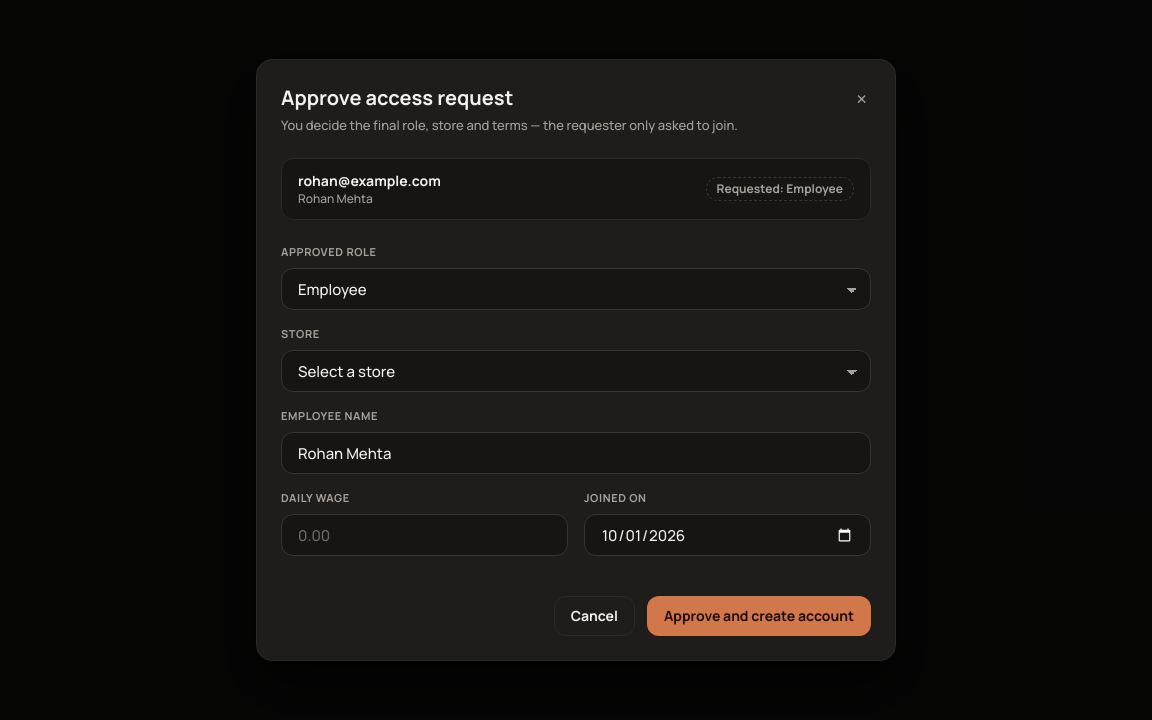
Test: access request approval form › surfaces an already-processed conflict instead of failing silently
Select "Koramangala" in the dropdown labelled "Store": [576, 371] box [281, 350, 871, 392]
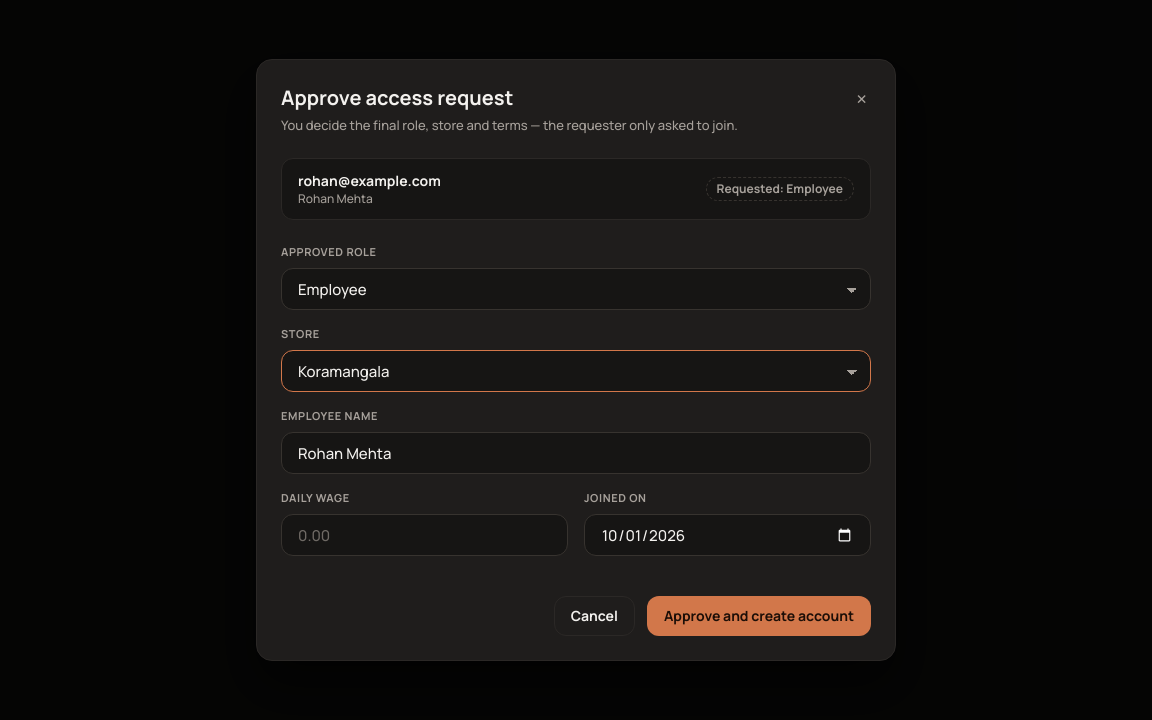
In the number field labelled "Daily wage": [424, 535] box [281, 514, 568, 556], type "650"
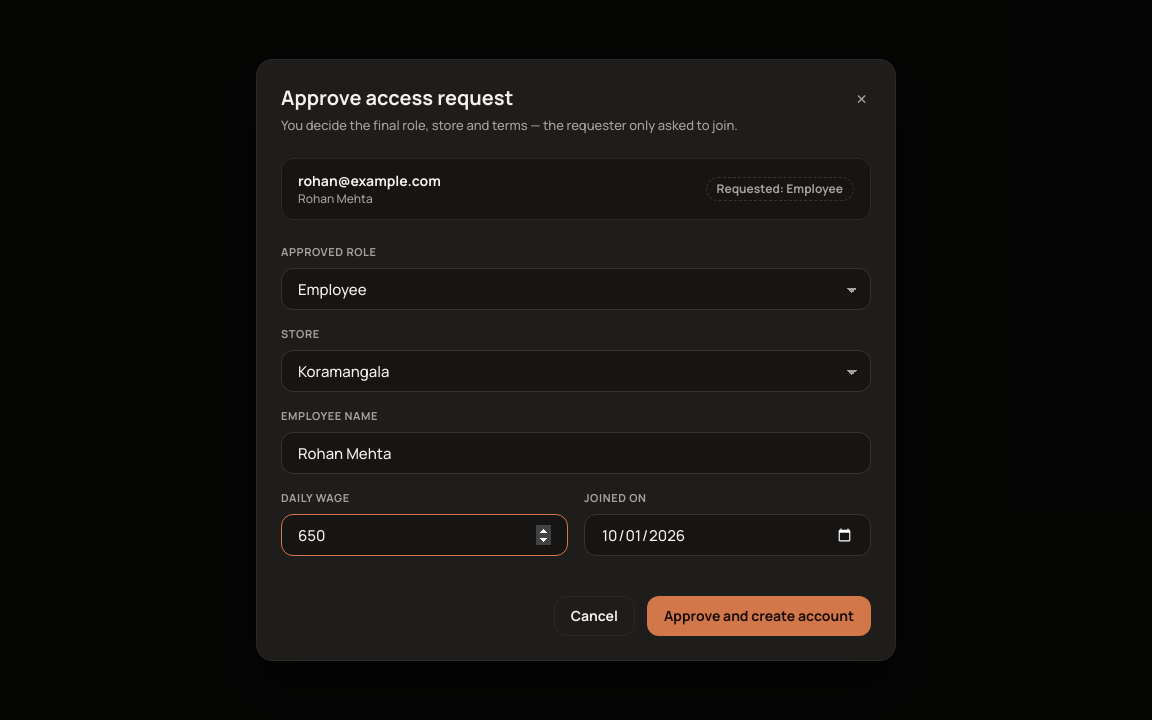
Click the button "Approve and create account": [759, 616] box [647, 596, 871, 636]
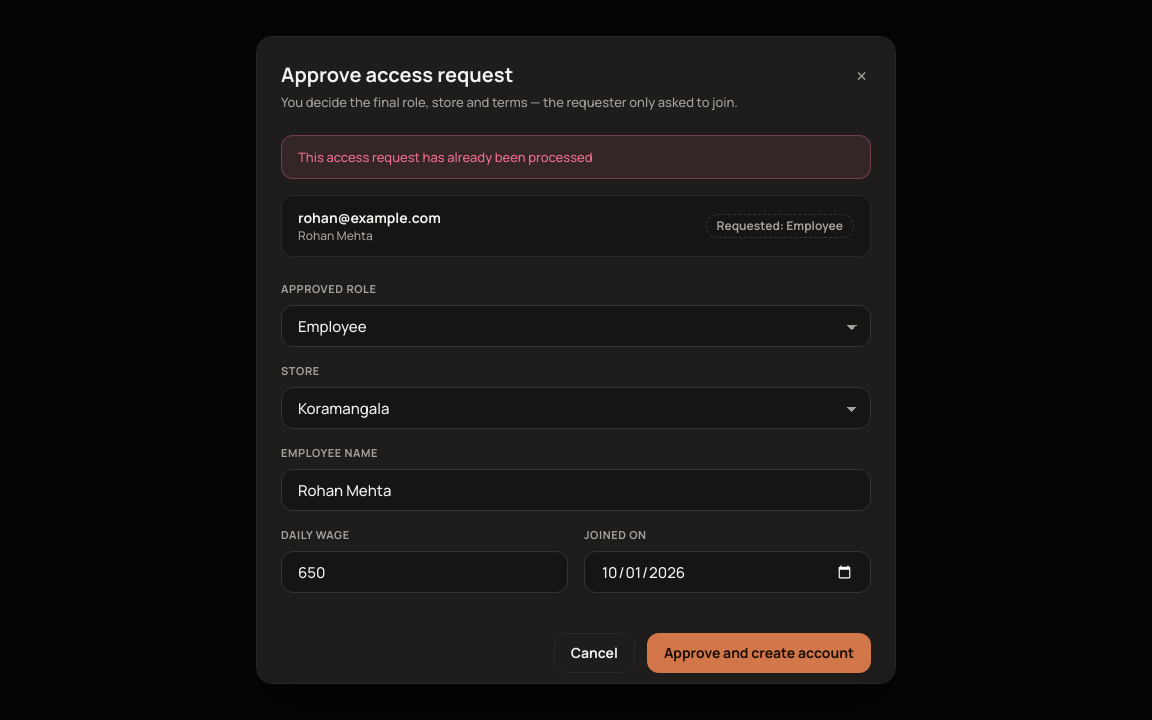
Result: the message shows "already been processed" at [298, 148, 593, 166]
